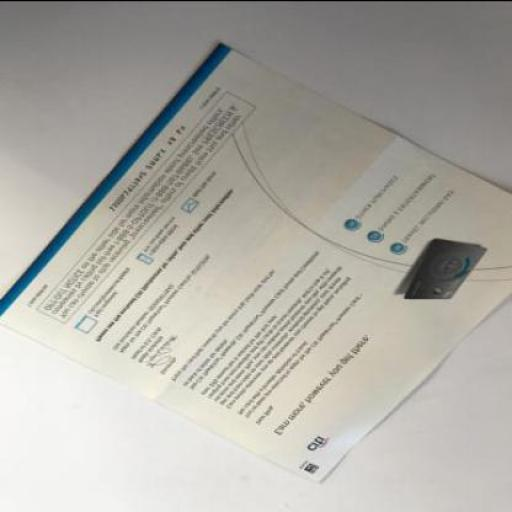paper: (1, 43, 511, 484)
